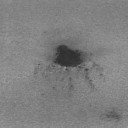iron sheet ash: (45, 43, 94, 86), (105, 109, 122, 120), (92, 62, 104, 77), (69, 84, 74, 90), (68, 77, 72, 82)
